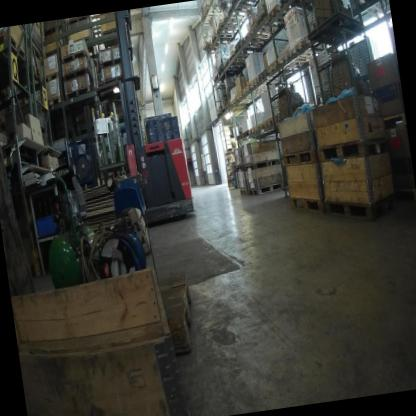forklift: (77, 5, 207, 230)
pallet: (23, 333, 181, 416), (155, 264, 207, 366), (316, 126, 391, 170), (322, 186, 394, 228), (288, 30, 334, 68), (5, 49, 44, 91), (285, 190, 331, 224), (280, 139, 323, 174), (238, 23, 282, 54), (0, 28, 29, 71), (249, 9, 289, 38), (262, 57, 297, 88), (59, 85, 97, 113), (275, 48, 314, 74), (224, 0, 260, 28), (263, 0, 295, 31), (245, 177, 285, 201), (226, 46, 260, 70), (58, 44, 91, 68), (242, 154, 283, 173), (61, 64, 94, 87), (215, 17, 245, 40), (232, 39, 263, 61), (221, 9, 250, 31), (209, 29, 240, 49), (213, 105, 248, 122), (222, 56, 249, 77), (204, 2, 231, 22), (99, 74, 127, 92), (202, 40, 225, 61), (240, 81, 264, 101), (246, 74, 269, 94), (211, 70, 229, 92), (43, 94, 64, 112), (41, 67, 59, 88), (219, 104, 250, 116), (99, 54, 124, 68), (255, 69, 272, 89), (263, 112, 277, 133), (237, 92, 253, 109), (255, 118, 267, 139), (234, 0, 262, 9), (216, 63, 228, 82), (201, 15, 218, 27), (236, 184, 249, 199), (247, 125, 258, 140), (223, 101, 238, 112), (230, 98, 242, 110), (241, 128, 251, 142), (236, 163, 245, 176), (234, 130, 241, 144)
stillage: (307, 18, 381, 117), (265, 57, 320, 139), (297, 0, 366, 52), (64, 132, 99, 184), (272, 137, 292, 200)
